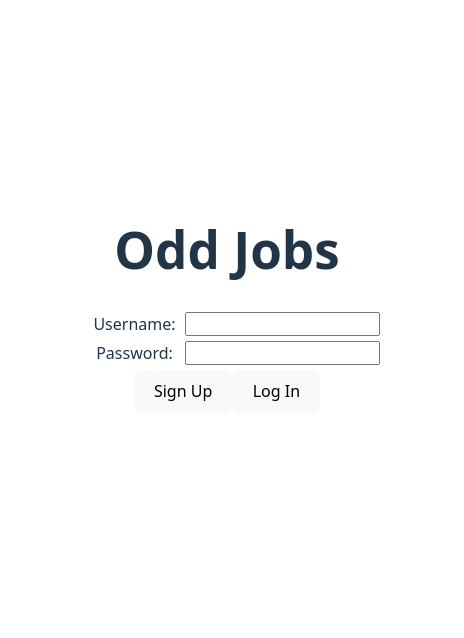
Test: My Jobs button only shows the logged users jobs
Type "TestUser" into the field next to "Username:" at (282, 324), box [184, 312, 380, 336]
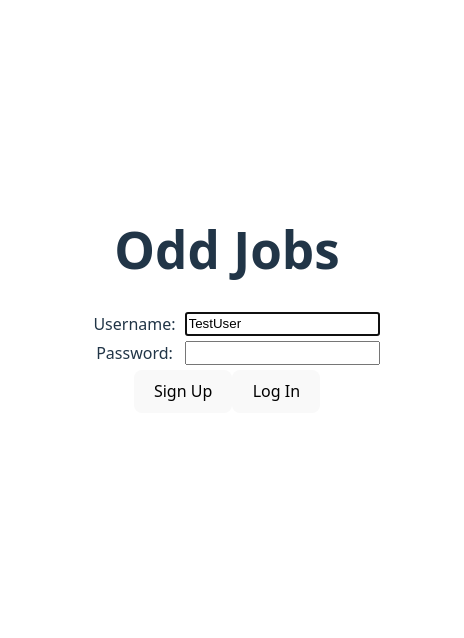
Type "TestPassword" into the field next to "Password:" at (282, 353), box [184, 341, 380, 365]
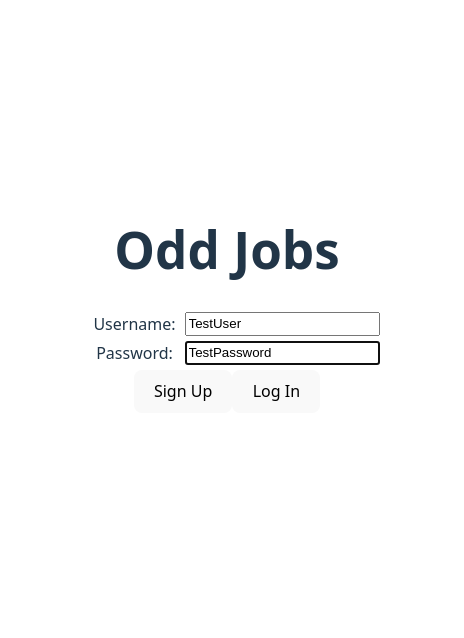
Click the button "Log In" at (276, 392), box [232, 370, 320, 413]
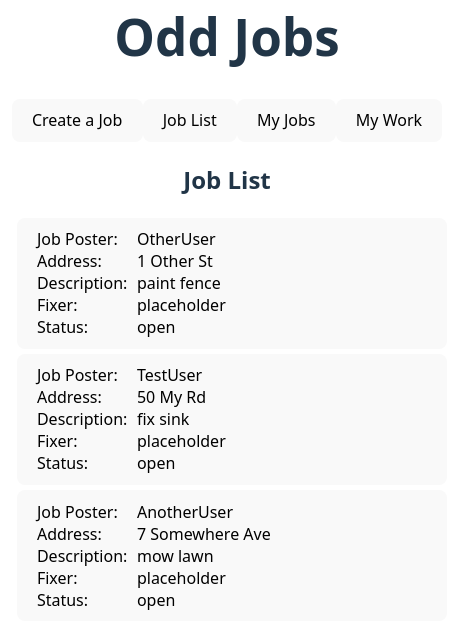
# Job List should show all jobs from different users
Click the button "Job List" at (190, 120), box [142, 99, 237, 142]
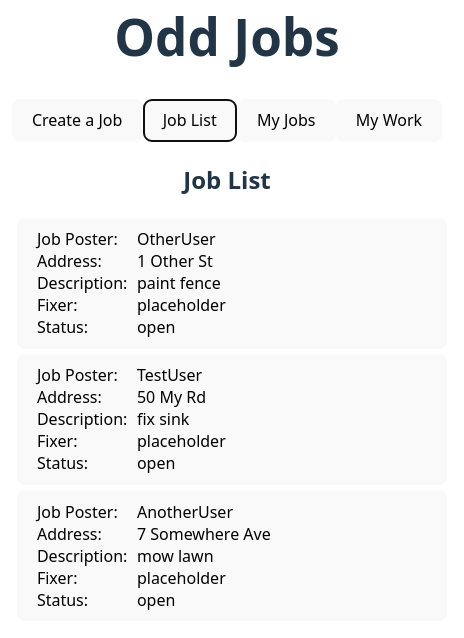
Expected: the number of buttons "Job Poster:" is 3, [17, 218, 447, 349]; [17, 354, 447, 485]; [17, 490, 447, 621]
Expected: the button "Job Poster:" shows "OtherUser", [17, 218, 447, 349]
Expected: the button "Job Poster:" shows "TestUser", [17, 354, 447, 485]
# Click My Jobs — should only show the logged-in user's jobs
Click the button "My Jobs" at (286, 120), box [237, 99, 336, 142]
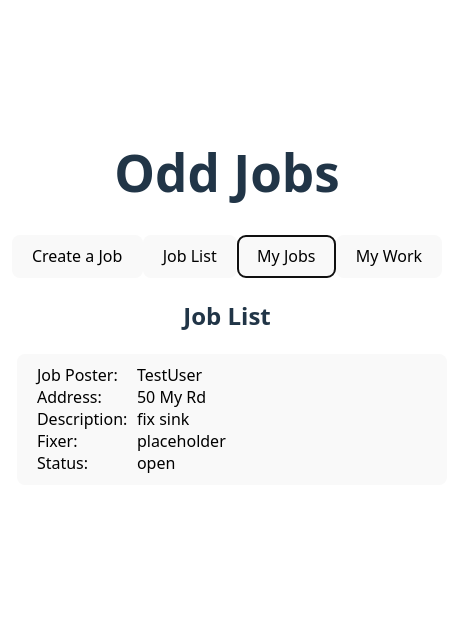
Expected: the button "Job Poster:" shows "TestUser", [17, 354, 447, 485]
Expected: the button "Job Poster:" shows "50 My Rd", [17, 354, 447, 485]
Expected: the number of buttons "Job Poster:" is 1, [17, 354, 447, 485]
